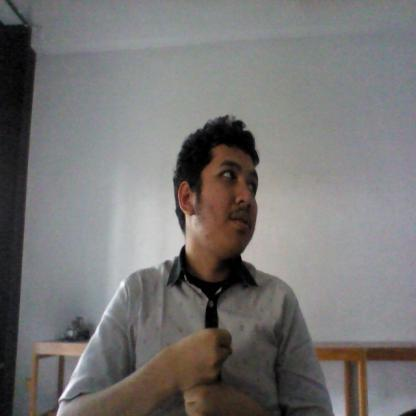G: (158, 324, 248, 416)
